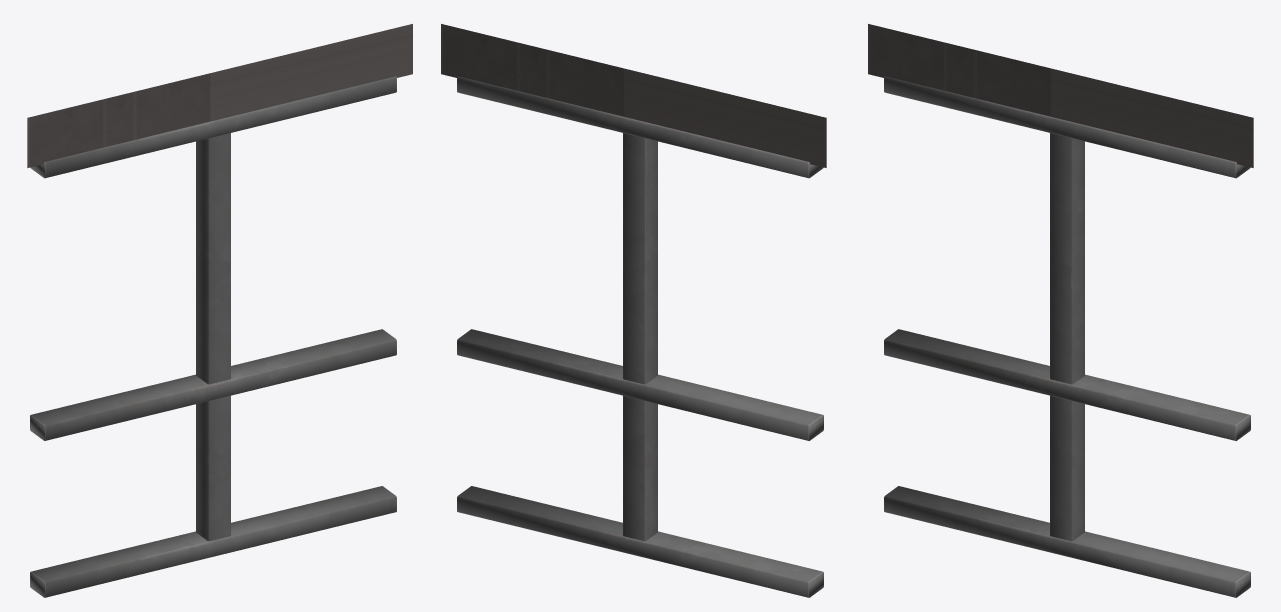
The model's file is SM_Building_Wall_02.glb.
3 renders of one model, left to right at view 1: azimuth 30°, elevation 25°; view 2: azimuth 150°, elevation 25°; view 3: azimuth 330°, elevation 25°, orthographic.
Visible parts, largest first — view 1: SM_Building_Wall_02; view 2: SM_Building_Wall_02; view 3: SM_Building_Wall_02.
Boxes of the visible parts, x1,y1,x2,y2 form: SM_Building_Wall_02: [27, 24, 412, 597]; SM_Building_Wall_02: [441, 24, 826, 597]; SM_Building_Wall_02: [868, 24, 1253, 597].
Bounding box in the file's own units: 2.5 × 3 × 0.17.
2 materials, 2 textured.
